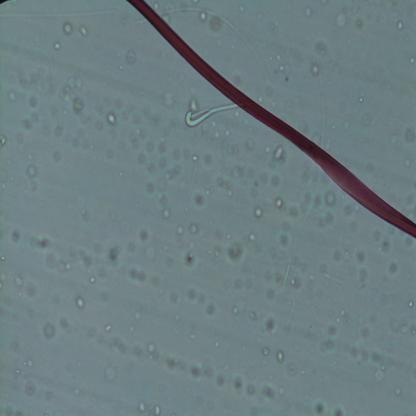Background material: (129, 108, 170, 185), (339, 335, 390, 384), (45, 244, 92, 276), (290, 180, 321, 223), (21, 63, 60, 96), (182, 277, 216, 314), (179, 158, 200, 216), (16, 90, 42, 136), (344, 238, 369, 283), (132, 226, 154, 259), (310, 396, 346, 416), (35, 317, 58, 345), (316, 321, 334, 356), (106, 244, 126, 270), (182, 245, 200, 273), (281, 208, 292, 252), (45, 141, 66, 164), (224, 239, 245, 262), (254, 172, 278, 192), (264, 309, 279, 338), (128, 266, 150, 284), (159, 202, 175, 226), (399, 120, 415, 143), (72, 21, 91, 39), (28, 236, 49, 251), (19, 380, 34, 399), (183, 220, 202, 235), (72, 95, 86, 115), (334, 9, 347, 30), (106, 111, 121, 129), (273, 144, 287, 162), (386, 259, 398, 278), (133, 398, 148, 413), (127, 47, 139, 65), (144, 182, 158, 197), (50, 40, 64, 53), (10, 228, 23, 242), (29, 166, 40, 182), (326, 191, 336, 208), (62, 22, 75, 35), (75, 298, 90, 309), (382, 235, 390, 254), (254, 206, 264, 221), (406, 53, 416, 66), (397, 13, 405, 29), (407, 298, 416, 312), (152, 404, 163, 414), (206, 152, 212, 166), (176, 226, 183, 236)
Glass filter fibre: (46, 313, 280, 399), (214, 12, 272, 69), (182, 101, 240, 132), (0, 9, 115, 20), (314, 54, 327, 148), (320, 268, 348, 289), (281, 260, 291, 289)
Microfibre: (126, 0, 416, 238)
